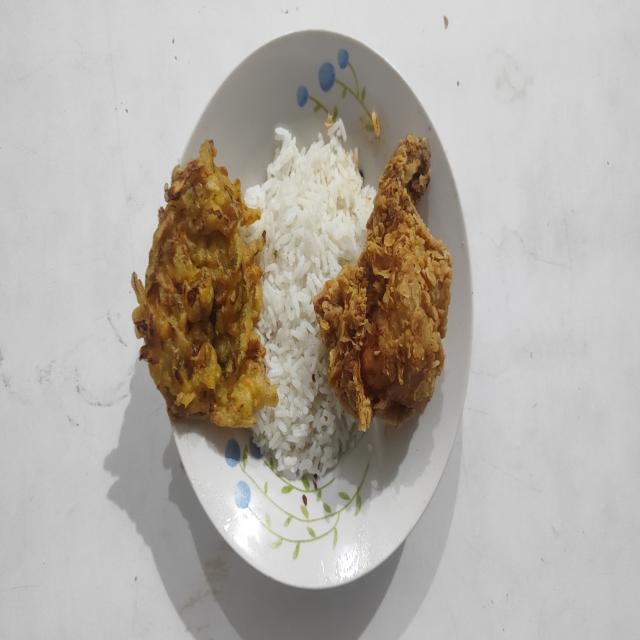nasi_putih: (244, 120, 375, 479)
